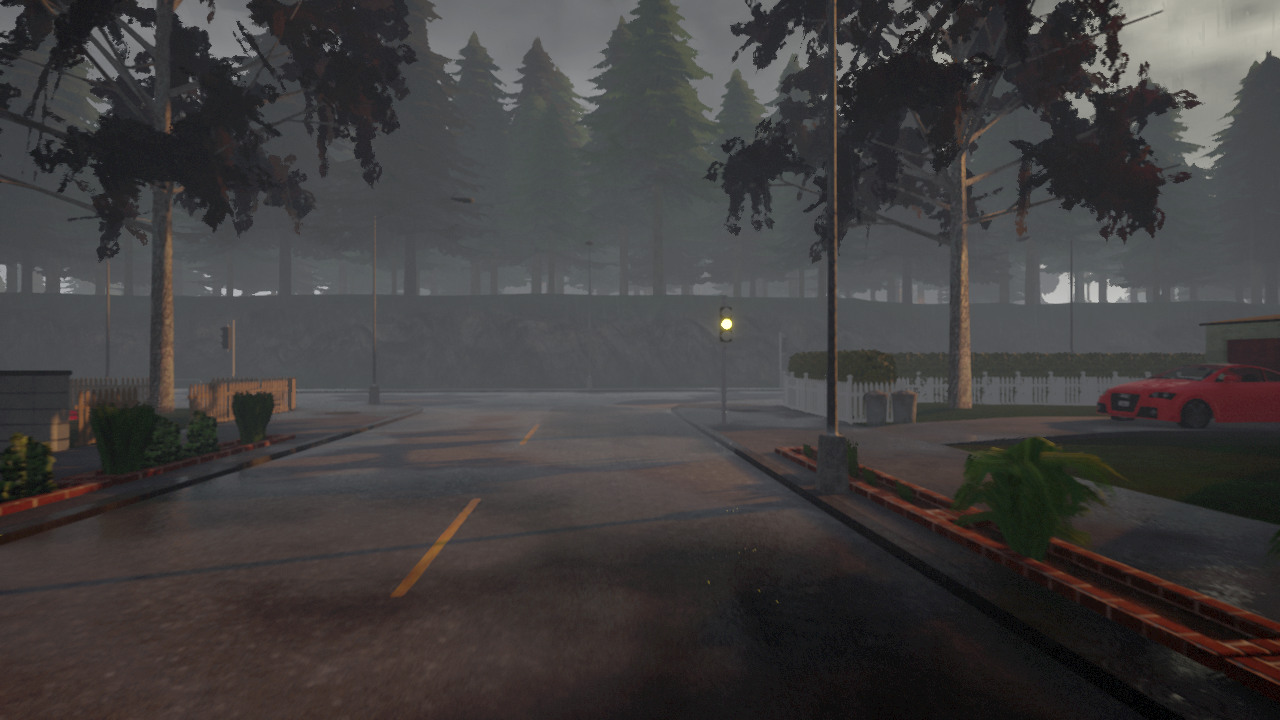yellow: (718, 304, 734, 341)
